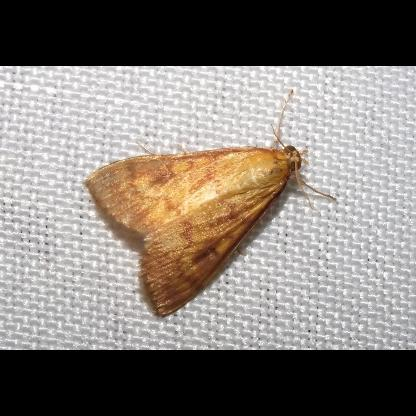Asian Corn Borer Moth: (80, 86, 340, 320)
